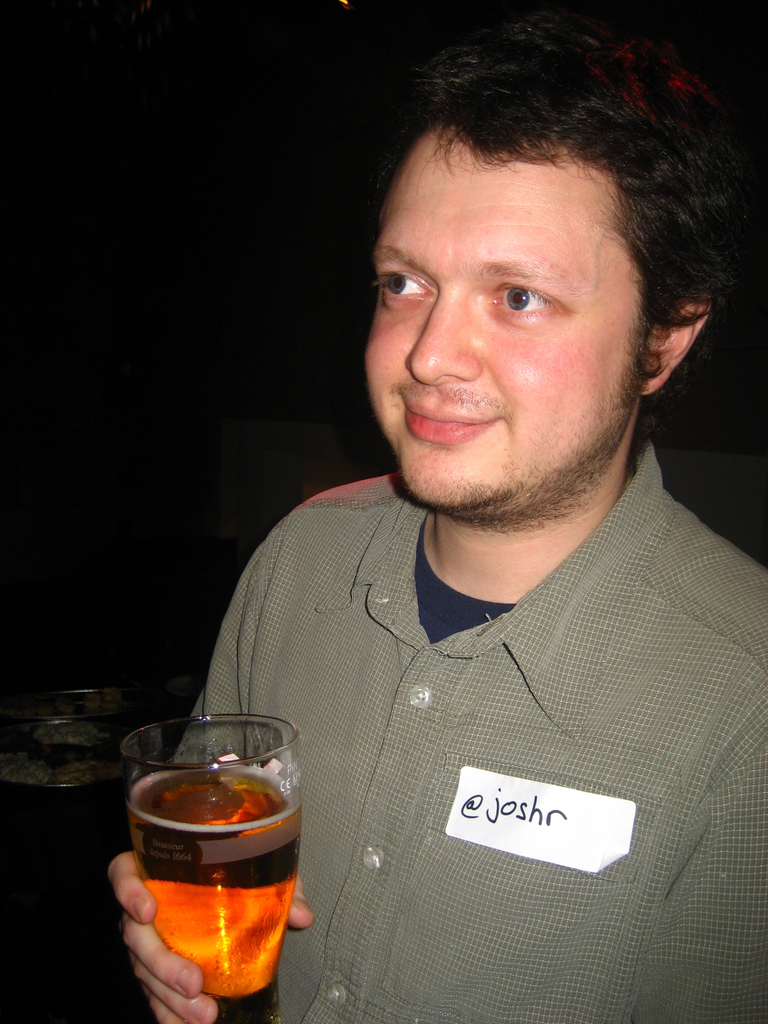Beer: (131, 773, 299, 1023)
